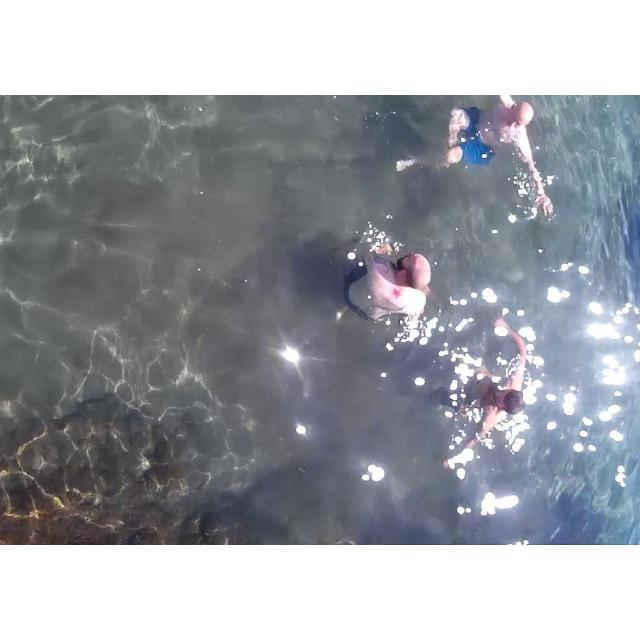human: (408, 95, 549, 233), (434, 308, 535, 467), (336, 211, 437, 348)
